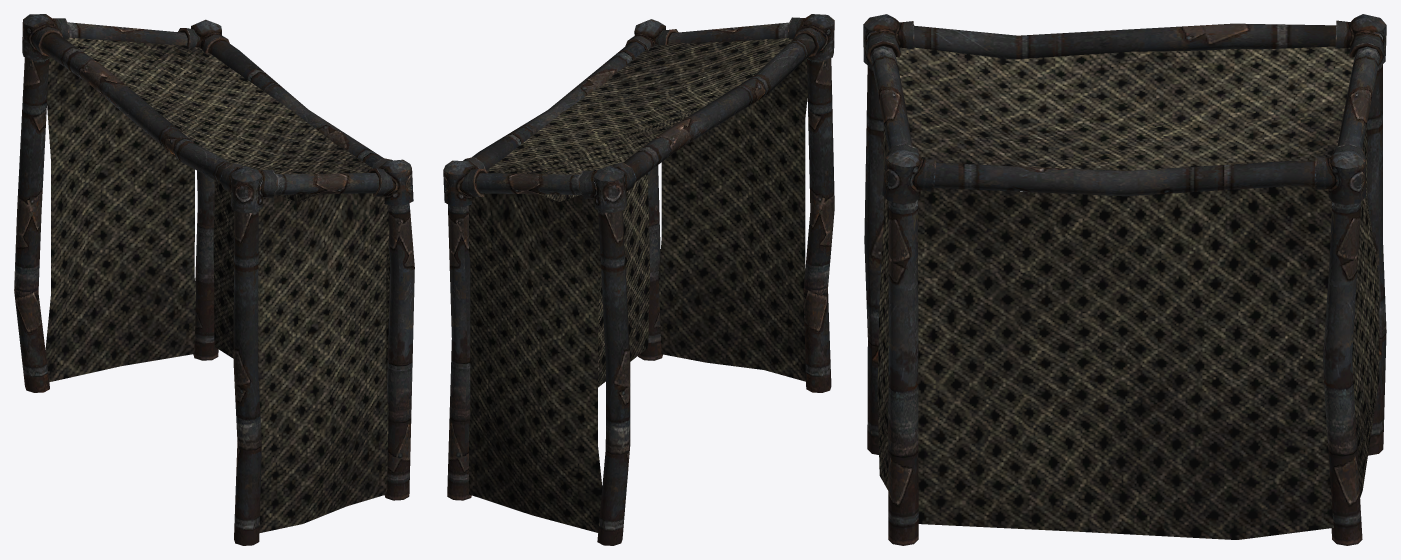
Rendered from football_goal_makeshift.dae.
The picture shows the model from 3 angles, left to right: view 1: azimuth 30°, elevation 25°; view 2: azimuth 150°, elevation 25°; view 3: azimuth 270°, elevation 25°; orthographic projection. The views are drawn at different scales.
Parts seen in each view (by area): view 1: netting_LP; view 2: netting_LP; view 3: netting_LP.
Boxes of the visible parts, <box> form: netting_LP: <box>14,14,414,545</box>; netting_LP: <box>443,14,834,545</box>; netting_LP: <box>863,14,1386,545</box>.
Bounding box in the file's own units: 22.25 × 44.16 × 40.3.
